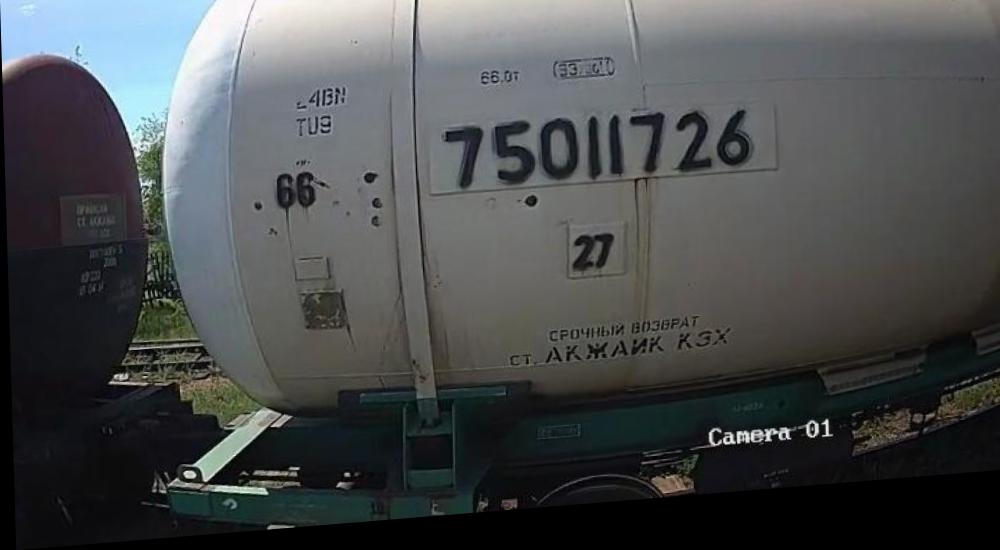Wagon-number: (437, 107, 763, 204)
